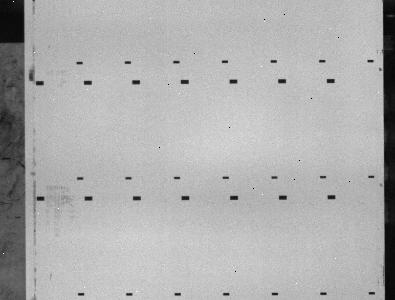qblock: (230, 195, 239, 200), (229, 79, 238, 84), (327, 78, 335, 83), (132, 80, 140, 85), (181, 79, 189, 84), (278, 79, 286, 83)
smallqblock: (36, 196, 45, 201), (84, 196, 93, 201), (181, 195, 190, 200), (36, 81, 44, 86), (84, 80, 92, 85), (279, 195, 287, 200), (327, 195, 336, 199), (133, 196, 141, 200), (78, 292, 85, 296), (223, 292, 230, 296), (367, 59, 374, 63), (319, 59, 326, 63), (125, 176, 132, 180), (173, 60, 180, 64), (369, 291, 375, 295), (320, 175, 326, 179), (174, 176, 180, 180), (126, 293, 133, 296), (320, 292, 327, 295), (174, 293, 181, 296), (76, 61, 83, 64), (368, 175, 375, 178), (77, 177, 84, 180), (124, 61, 131, 64), (222, 60, 229, 63), (271, 176, 278, 179), (270, 60, 277, 63), (222, 176, 229, 179), (272, 292, 278, 295)
